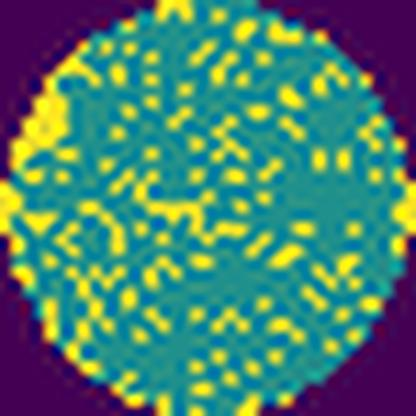Edge-Loc: (9, 28, 103, 188), (0, 181, 24, 255), (388, 181, 416, 238)
